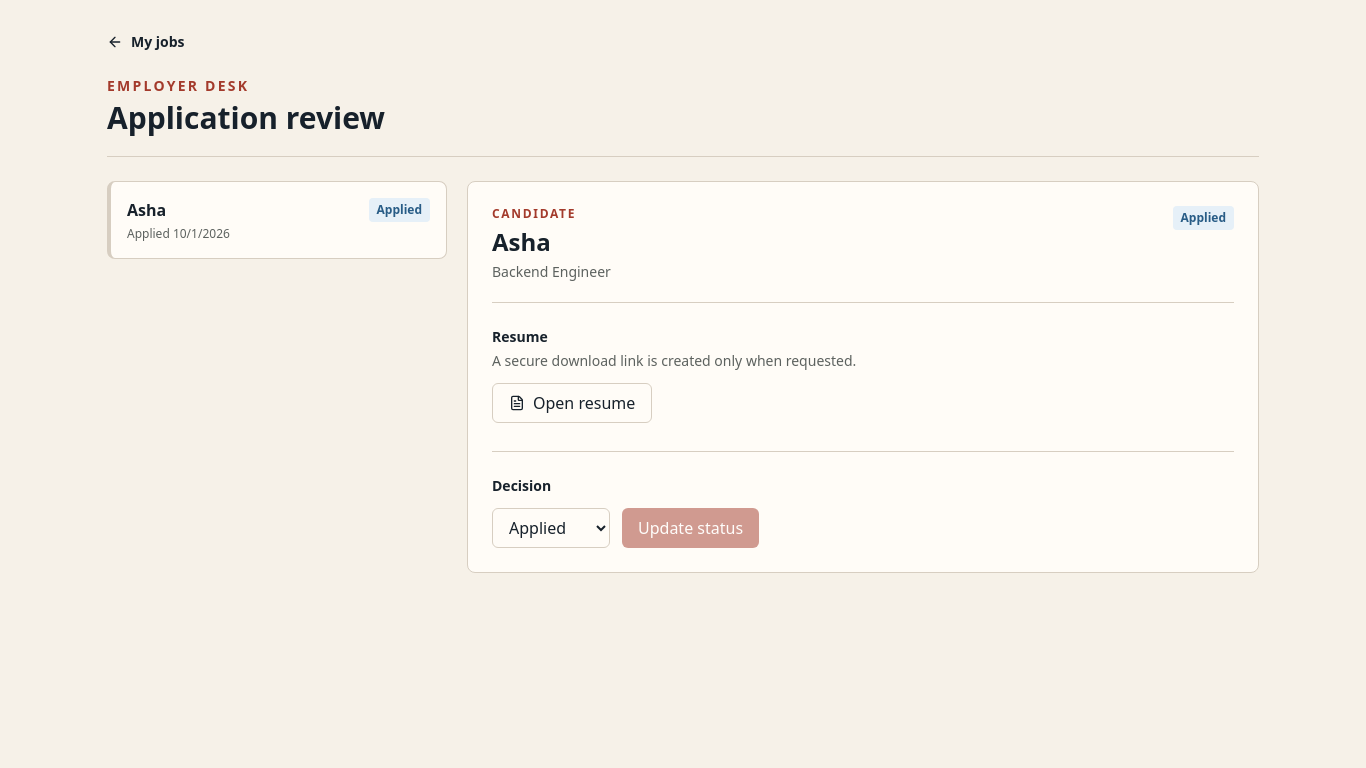
ApplicationReviewPage › requests a resume only on click and reports failure
Expected: the 1st heading "Asha" is shown, [127,199,166,221]
Click the button "Open resume" at (572, 403), box [492,383,652,423]
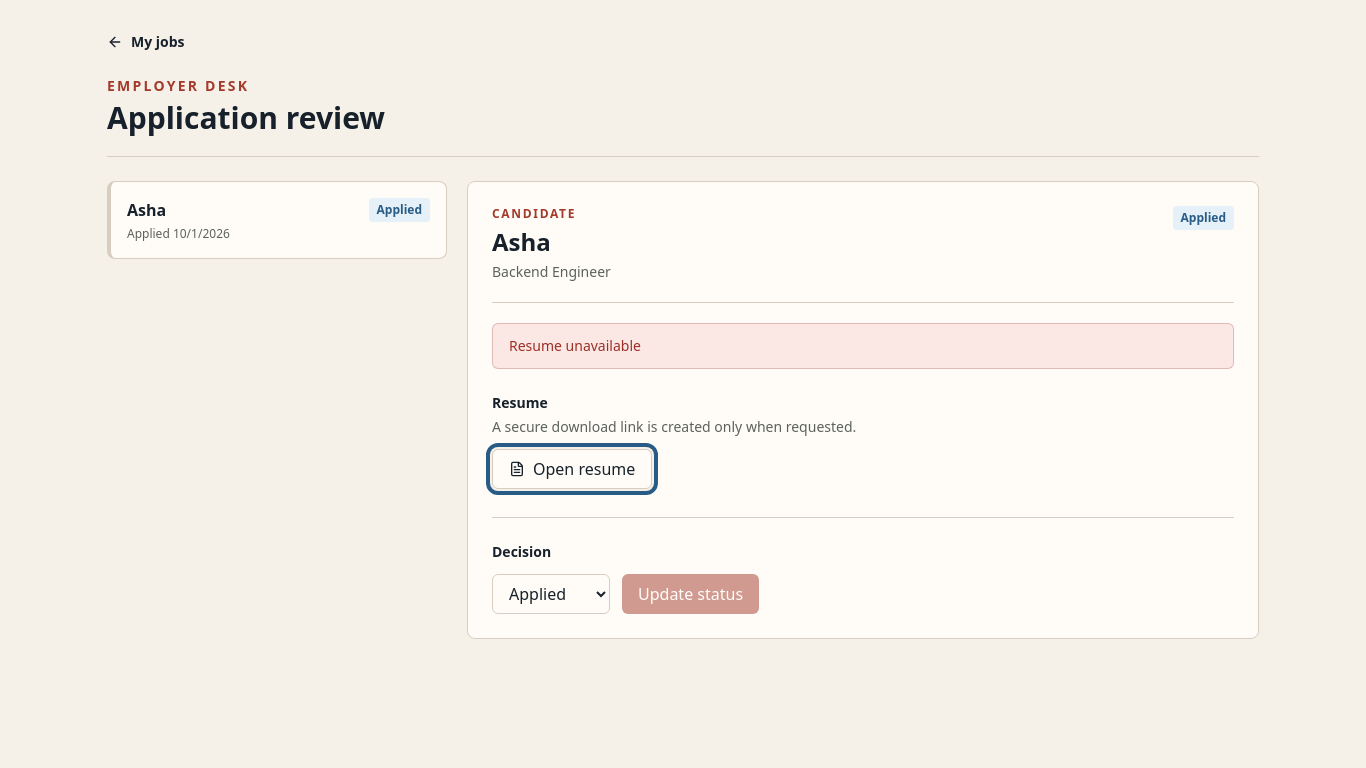
Expected: the text "Resume unavailable" is shown, [509,336,641,355]
